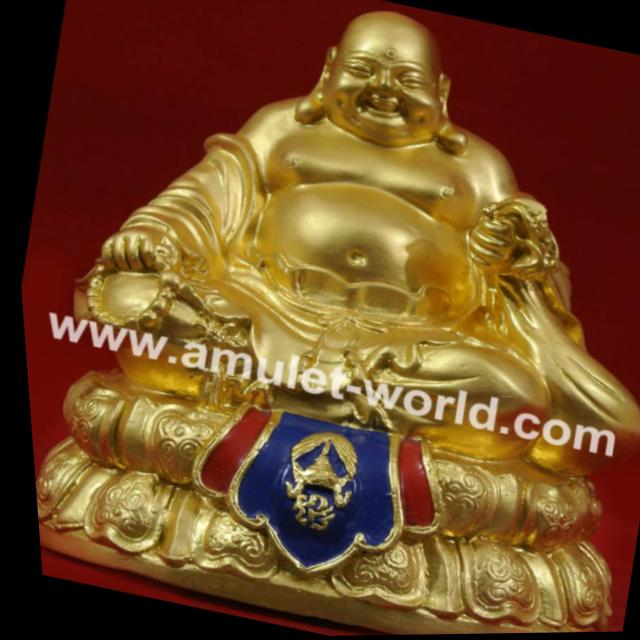Smiling Buddha: (134, 0, 603, 430)
